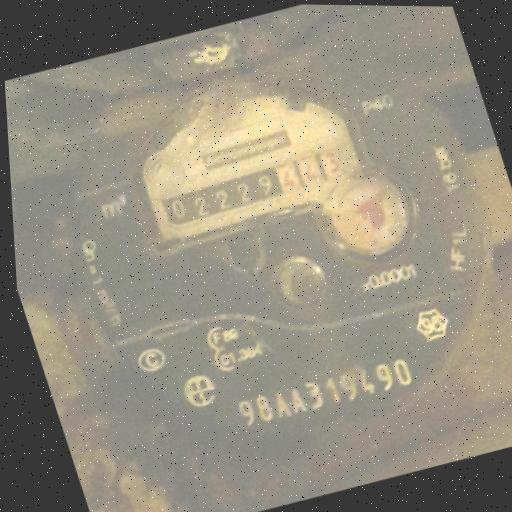0: (165, 193, 192, 225)
2: (230, 173, 258, 208), (187, 187, 214, 220), (208, 180, 235, 213)
3: (319, 147, 344, 181)
4: (297, 154, 324, 188), (275, 162, 300, 193)
9: (252, 167, 278, 200)
border_water_meter_number: (155, 144, 350, 231)
